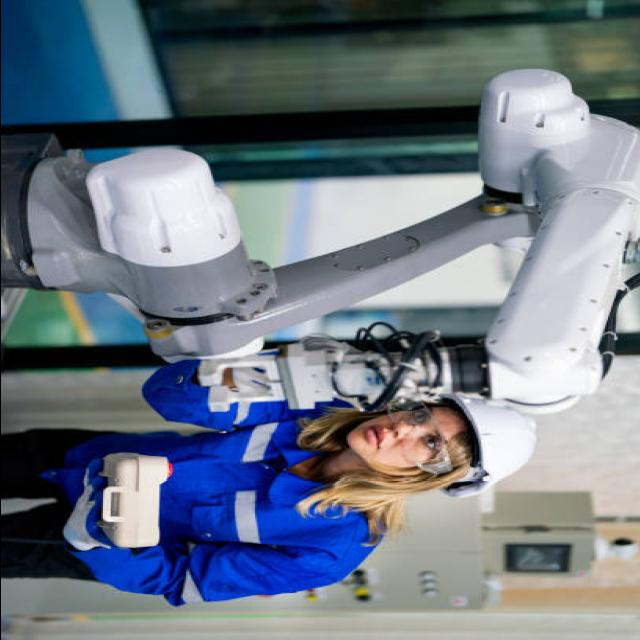Robotic-arm: (0, 64, 640, 417)
